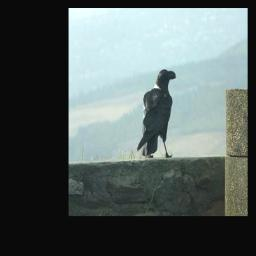Crow: (136, 67, 177, 158)
